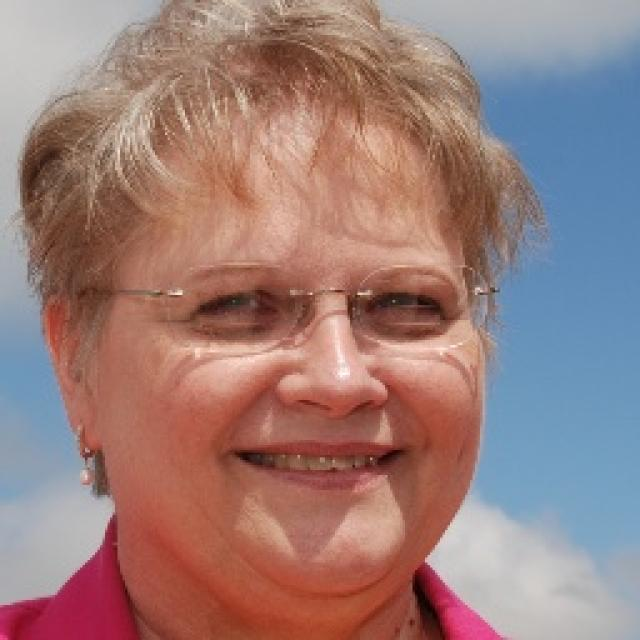earlobe: (66, 402, 104, 452)
eye: (372, 282, 449, 329), (192, 288, 286, 326)
wholeear: (43, 287, 104, 453)
